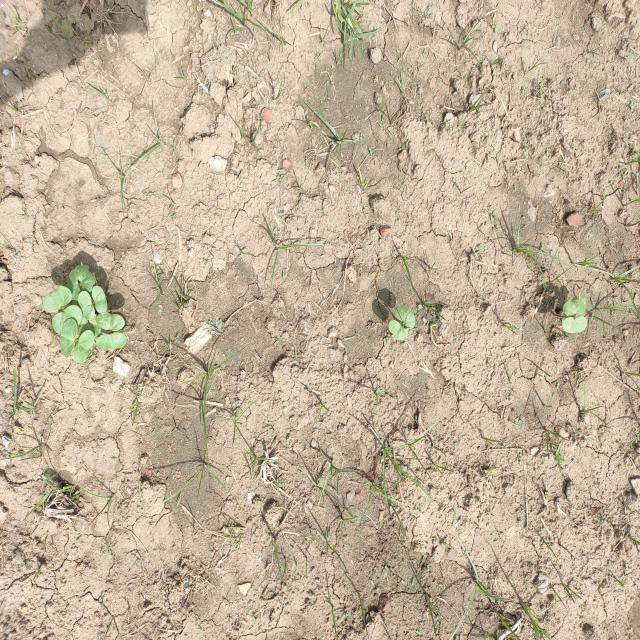seedling: (52, 305, 83, 334), (43, 286, 72, 313), (73, 330, 95, 363), (60, 318, 77, 357), (74, 265, 96, 292), (96, 332, 127, 350), (77, 314, 101, 337), (96, 312, 125, 331), (78, 291, 95, 320), (395, 305, 415, 329), (388, 319, 408, 341), (562, 316, 587, 333), (67, 270, 80, 302), (92, 286, 107, 313), (562, 299, 586, 315)
